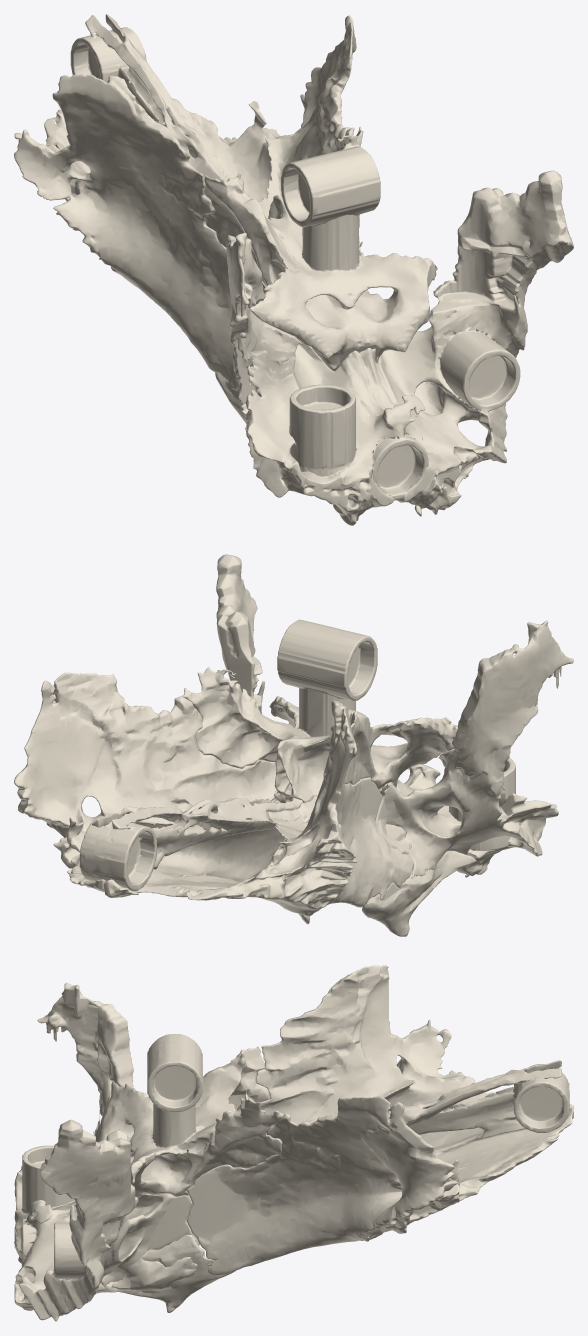
File: canine-skull-base-cuhl9-detail-5c37c4e6f82b.glb
3 views of the same model, one above another, from view 1: azimuth 30°, elevation 25°; view 2: azimuth 150°, elevation 25°; view 3: azimuth 270°, elevation 25° (orthographic). The views are drawn at different scales.
Parts seen in each view (by area): view 1: basisphenoid, palatine-left, presphenoid, palatine-right, vomer; view 2: palatine-right, basisphenoid, presphenoid, palatine-left, vomer, pterygoid-left; view 3: palatine-right, basisphenoid, palatine-left, presphenoid, vomer, pterygoid-right.
Part boxes in pixels (x1,y1,x2,y2): basisphenoid: (226,170,573,525); palatine-left: (14,74,266,392); presphenoid: (204,126,437,370); palatine-right: (166,15,356,218); vomer: (70,14,227,185); palatine-right: (14,672,284,893); basisphenoid: (216,554,573,878); presphenoid: (182,619,457,803); palatine-left: (104,700,413,916); vomer: (79,797,303,891); pterygoid-left: (362,823,476,936); palatine-right: (186,1096,573,1275); basisphenoid: (14,982,197,1321); palatine-left: (256,965,573,1152); presphenoid: (98,1034,283,1197); vomer: (281,1060,569,1150); pterygoid-right: (96,1233,236,1312).
Bounding box in the file's own units: 1.19 × 1.12 × 2.
